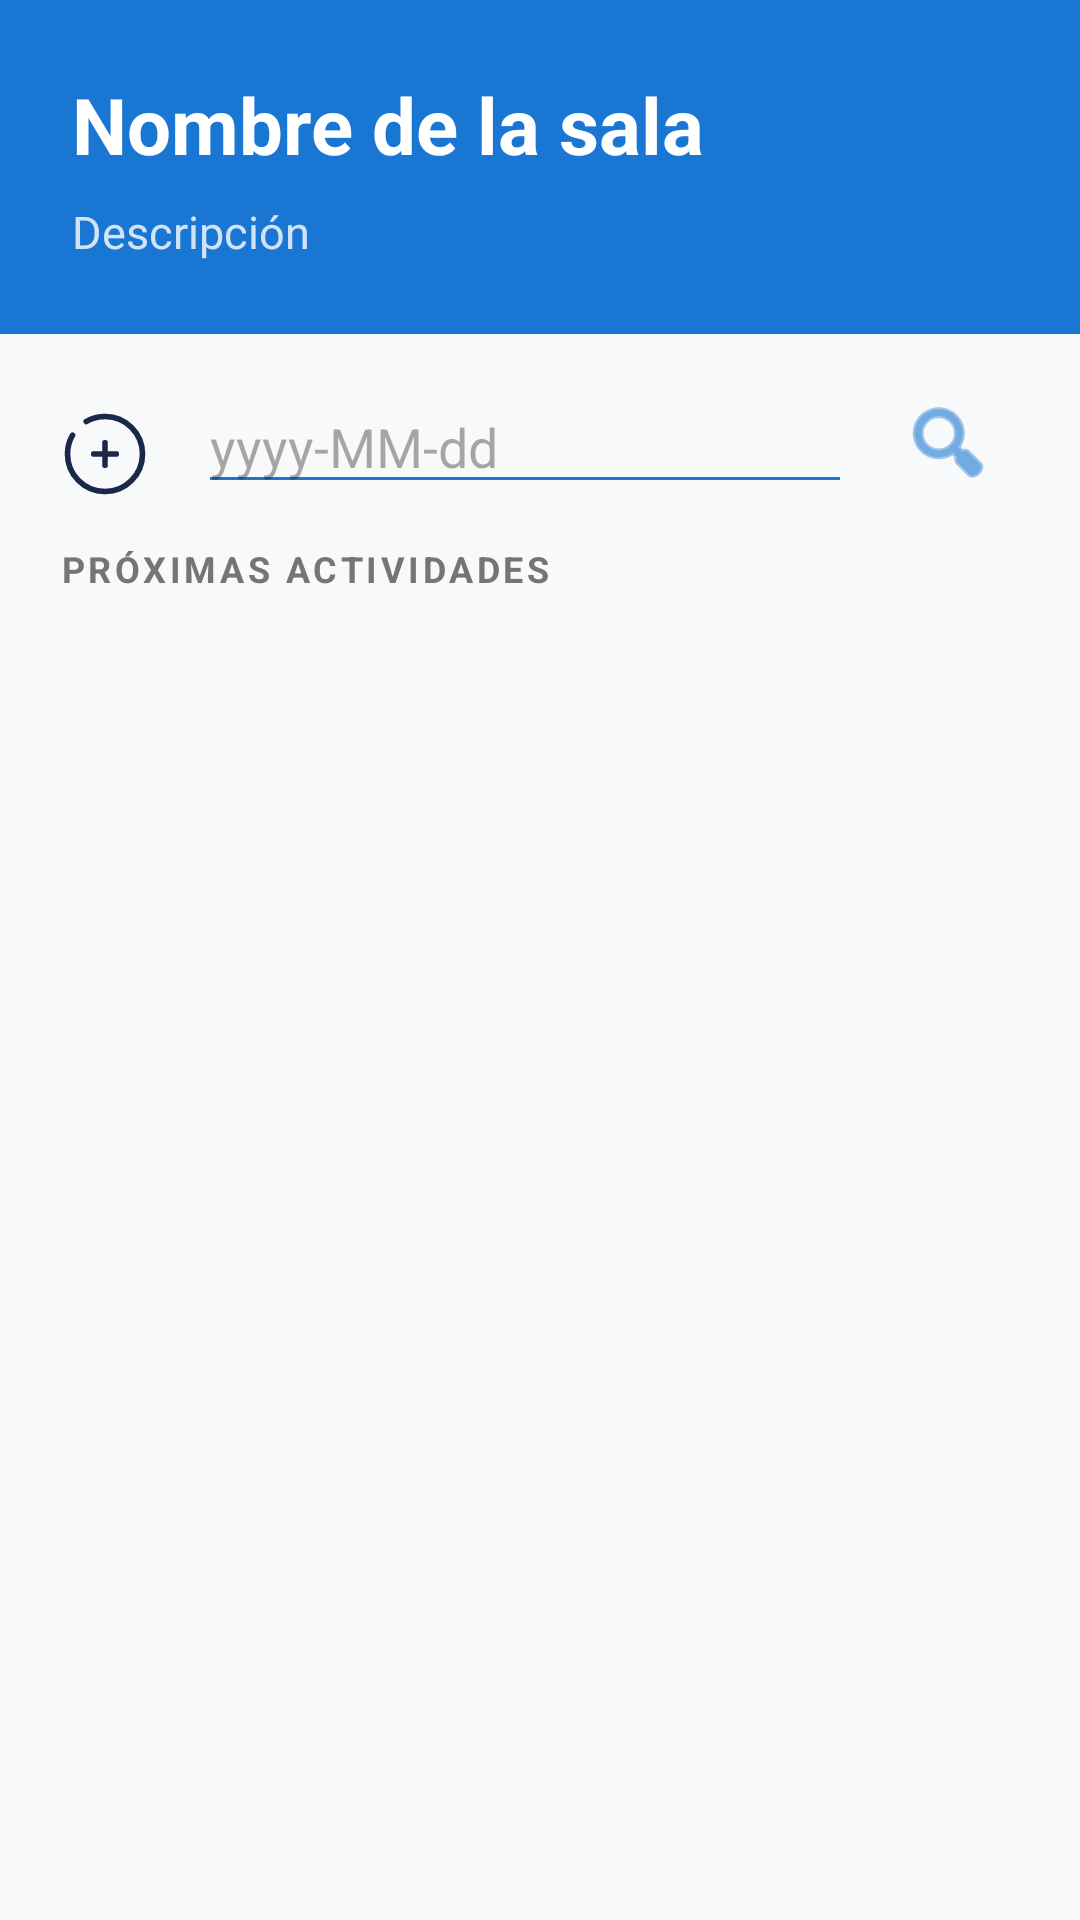

Locate icon controls on the screen. Image size 1080 × 1920, boxes as (x1, y1, x2, y2).
Añadir actividad: (64, 413, 146, 495)
Buscar: (912, 407, 983, 478)
